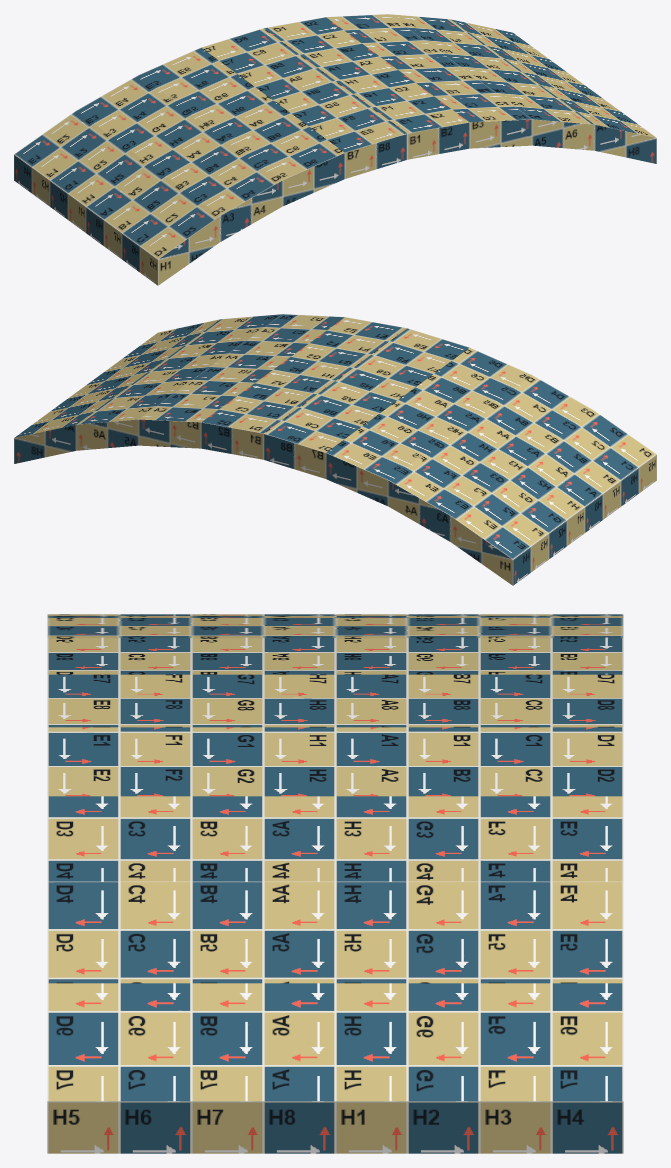
File: BRIDGE_Arched.fbx
3 views of the same model, one above another, from view 1: azimuth 30°, elevation 25°; view 2: azimuth 150°, elevation 25°; view 3: azimuth 270°, elevation 25° (orthographic). The views are drawn at different scales.
Parts seen in each view (by area): view 1: BRIDGE_Arched; view 2: BRIDGE_Arched; view 3: BRIDGE_Arched.
Boxes of the visible parts, x1=… form: BRIDGE_Arched: x1=14, y1=14, x2=656, y2=285; BRIDGE_Arched: x1=14, y1=314, x2=656, y2=585; BRIDGE_Arched: x1=47, y1=614, x2=623, y2=1153.
Bounding box in the file's own units: 400 × 70 × 200.
1 material, 1 textured.
